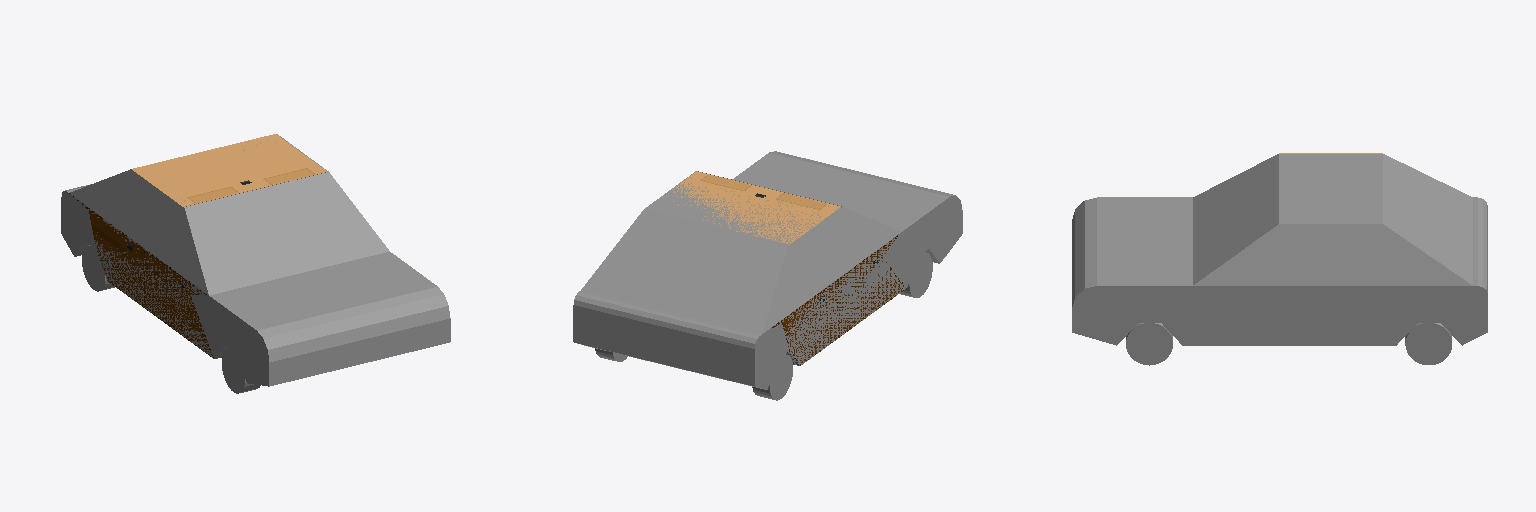
The picture shows the model from 3 angles: view 1: azimuth 30°, elevation 25°; view 2: azimuth 150°, elevation 25°; view 3: azimuth 270°, elevation 25°; orthographic projection.
Parts seen in each view (by area): view 1: frame:body, interior:cab, sWheel:frontRight, nWheel:backRight; view 2: frame:body, interior:cab, nWheel:backRight, sWheel:frontRight; view 3: frame:body, sWheel:frontLeft, nWheel:backLeft.
Part boxes in pixels (x1,y1,x2,y2): frame:body: (61,134,450,386); interior:cab: (69,134,326,357); sWheel:frontRight: (222,348,260,393); nWheel:backRight: (82,245,114,291); frame:body: (573,151,962,389); interior:cab: (662,171,906,365); nWheel:backRight: (752,354,792,400); sWheel:frontRight: (900,252,932,297); frame:body: (1072,154,1487,345); sWheel:frontLeft: (1126,323,1172,365); nWheel:backLeft: (1405,323,1451,364).
Bounding box in the file's own units: 2 × 1.41 × 3.98.
2 materials, 1 textured.